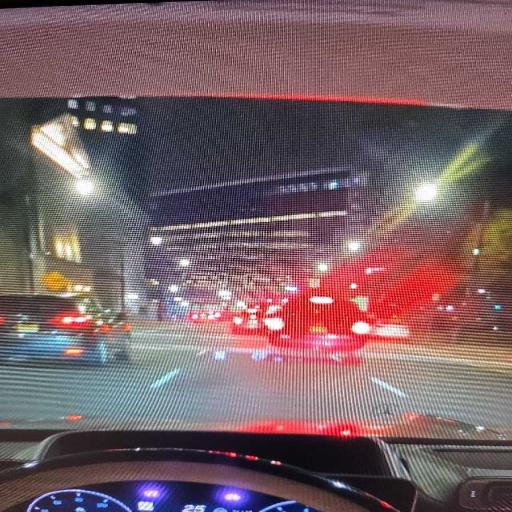car: (0, 295, 131, 365), (265, 290, 371, 355), (232, 303, 267, 334), (188, 310, 225, 323)
lane: (0, 329, 511, 428)
